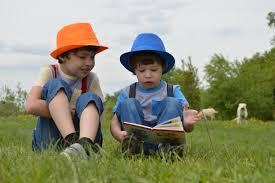child: (23, 20, 108, 164), (112, 28, 201, 162)
